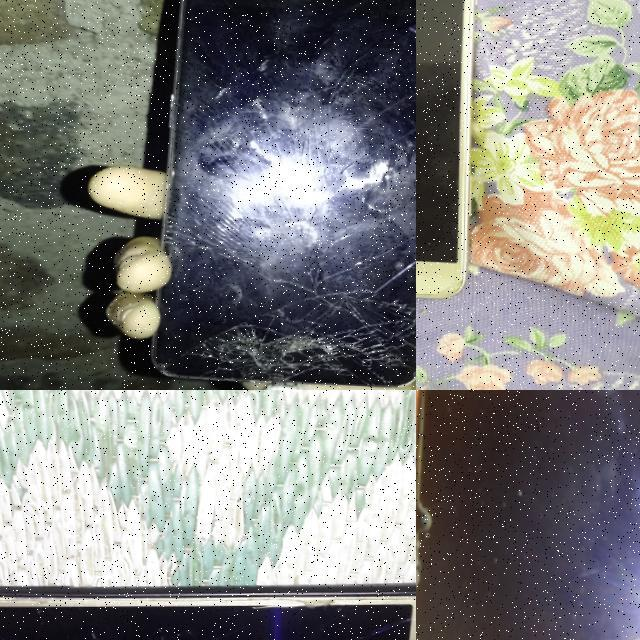screen crack: (158, 274, 416, 384), (233, 585, 416, 640), (163, 179, 275, 258), (416, 479, 437, 640), (394, 0, 416, 52)
